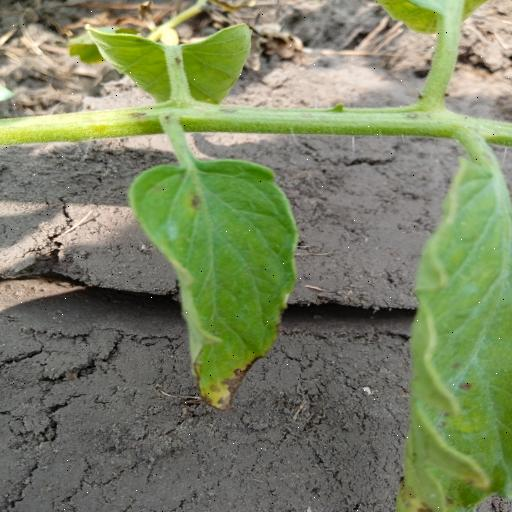Tomato_Brown_Spots: (124, 154, 306, 414)
